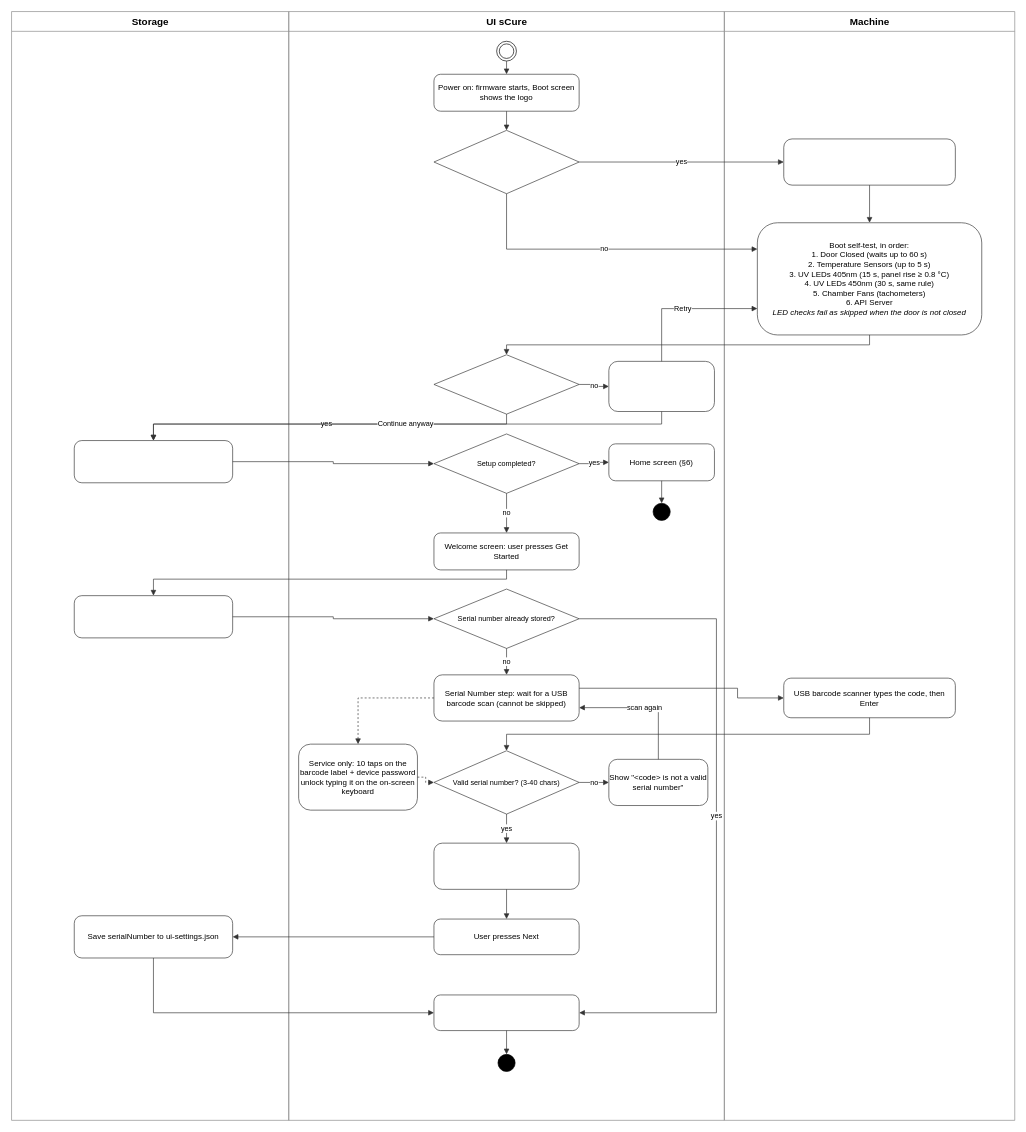
Image size: 1026x1132. Some labels were removed from this diagram. Each missing label, with the centre of its shape:
"All 6 checks passed?" belongs at point 506,384.
"Planned restart? (clean stop ≤ 10 min ago)" belongs at point 506,162.
"Proceed to the Name step (§4)" belongs at point 506,1012.
"Quick boot: the UV LED and fan checks pass without running" belongs at point 869,161.
"Read serialNumber (ui-settings.json, else system.json)" belongs at point 153,616.
"Read setupComplete (ui-settings.json, else system.json)" belongs at point 153,461.
"Show failed checks and reasons: Retry / Continue anyway" belongs at point 661,386.
"Show the serial number; Next enabled (a new scan replaces it)" belongs at point 506,865.
